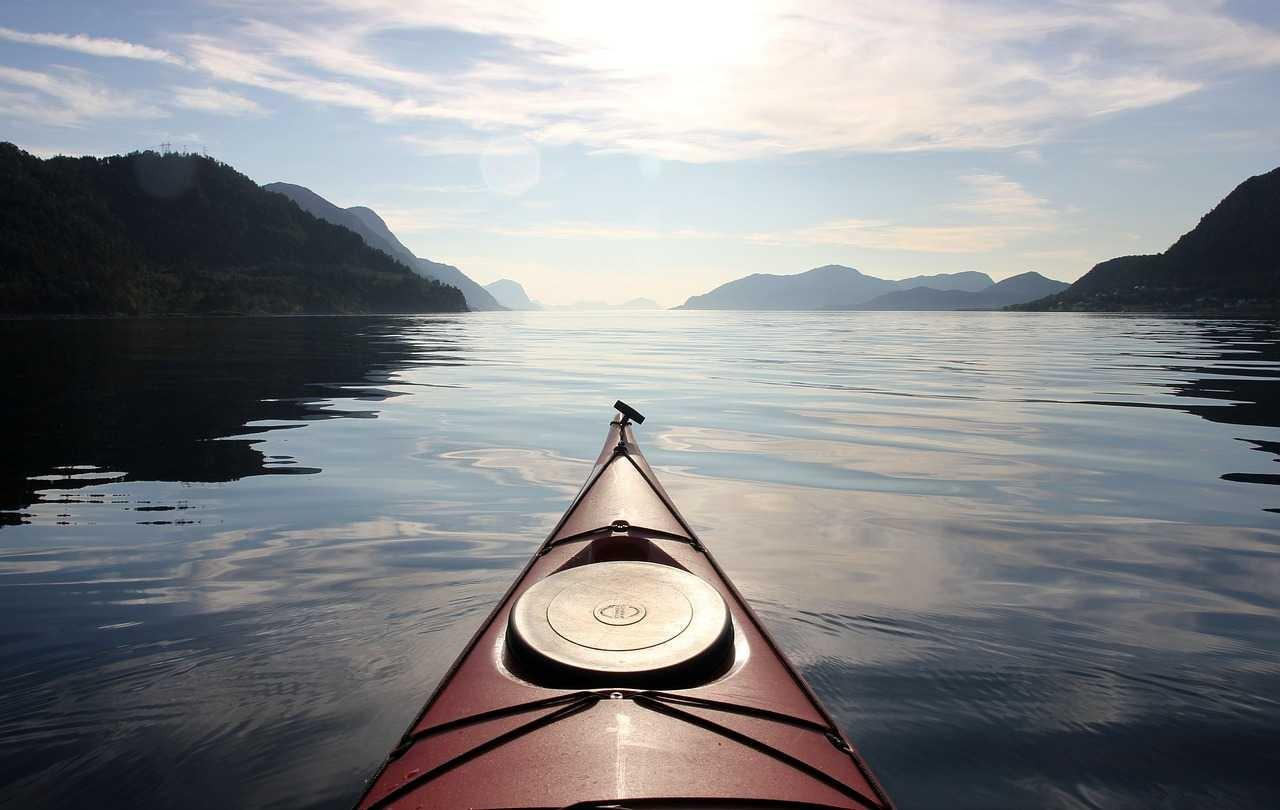kayak: (355, 398, 894, 803)
